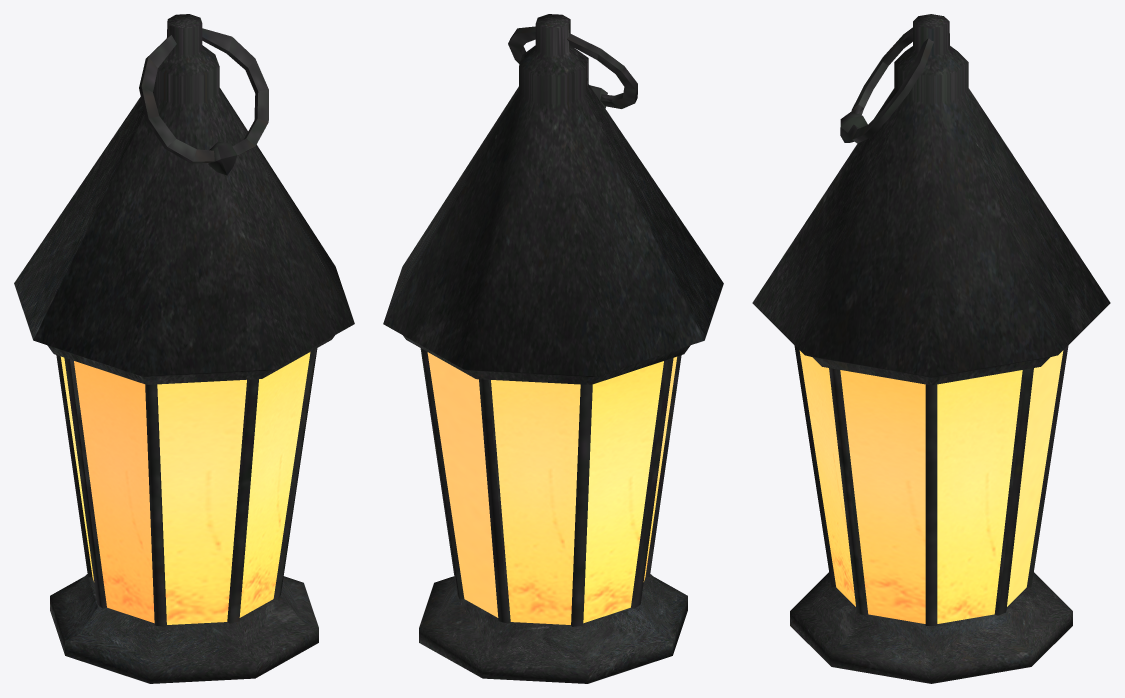
File: round_lantern_sitting.glb
3 renders of one model, left to right at view 1: azimuth 30°, elevation 25°; view 2: azimuth 150°, elevation 25°; view 3: azimuth 270°, elevation 25°, orthographic.
Parts seen in each view (by area): view 1: round_lantern_sitting; view 2: round_lantern_sitting; view 3: round_lantern_sitting.
Boxes of the visible parts, x1,y1,x2,y2 form: round_lantern_sitting: (14, 14, 354, 683); round_lantern_sitting: (383, 14, 723, 683); round_lantern_sitting: (752, 14, 1110, 683).
Bounding box in the file's own units: 0.3401 × 0.6502 × 0.3495.
Materials: 2 (2 with a texture image).
